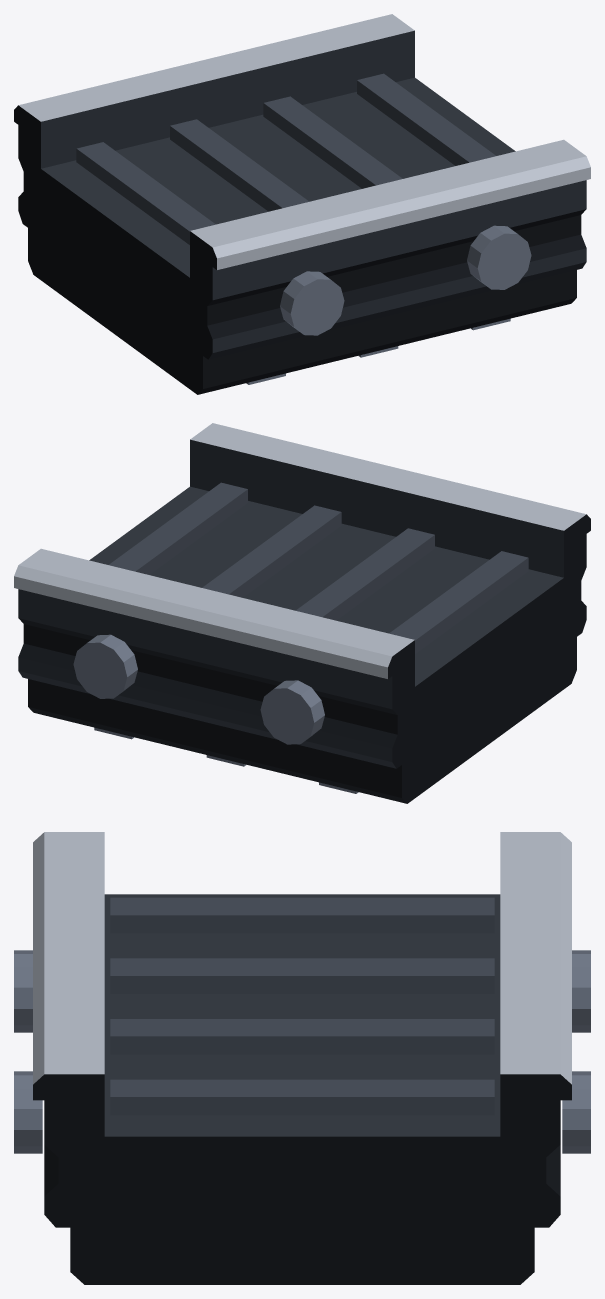
Rendered from belt-straight.glb.
3 views of the same model, one above another, from view 1: azimuth 30°, elevation 25°; view 2: azimuth 150°, elevation 25°; view 3: azimuth 270°, elevation 25° (orthographic). The views are drawn at different scales.
Parts seen in each view (by area): view 1: belt-straight; view 2: belt-straight; view 3: belt-straight.
Boxes of the visible parts, left/top/right/bottom form: belt-straight: left=14, top=14, right=590, bottom=394; belt-straight: left=14, top=423, right=590, bottom=803; belt-straight: left=14, top=832, right=590, bottom=1284.
Bounding box in the file's own units: 1 × 0.424 × 1.01.
